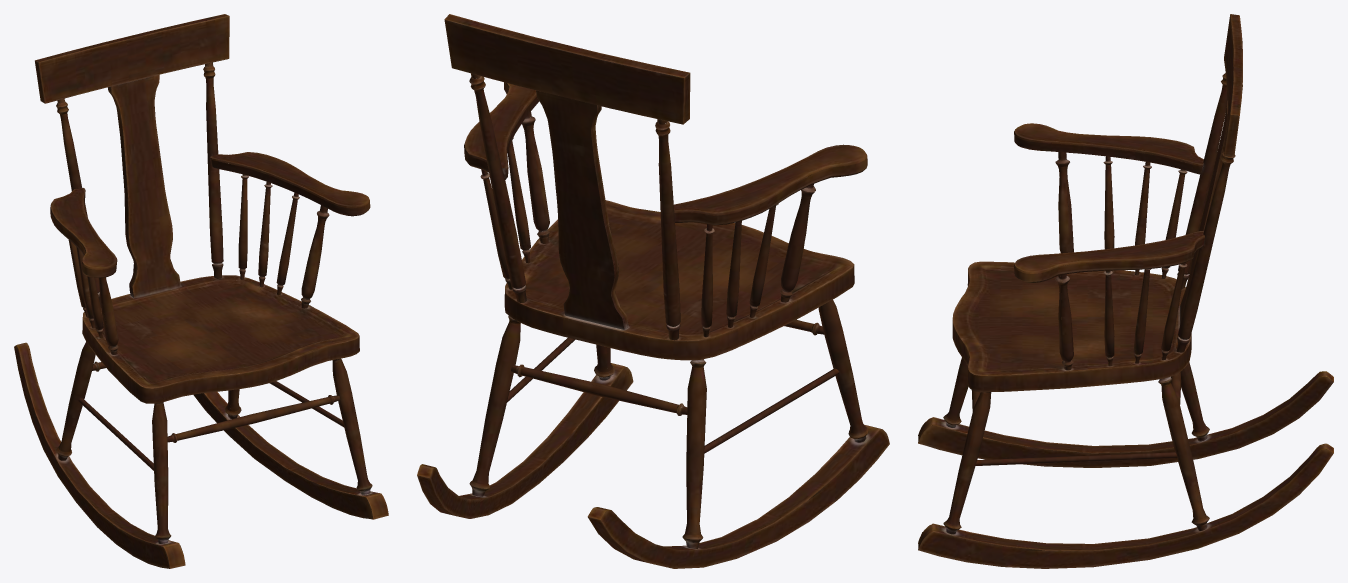
The model's file is rocking.glb.
The picture shows the model from 3 angles, left to right: view 1: azimuth 30°, elevation 25°; view 2: azimuth 150°, elevation 25°; view 3: azimuth 270°, elevation 25°; orthographic projection. The views are drawn at different scales.
Visible parts, largest first — view 1: Rockingchair_01; view 2: Rockingchair_01; view 3: Rockingchair_01.
Part boxes in pixels (x1,y1,x2,y2): Rockingchair_01: [14, 14, 388, 568]; Rockingchair_01: [417, 14, 889, 568]; Rockingchair_01: [918, 14, 1333, 568].
Bounding box in the file's own units: 0.7093 × 0.9949 × 0.8337.
1 material, 1 textured.
